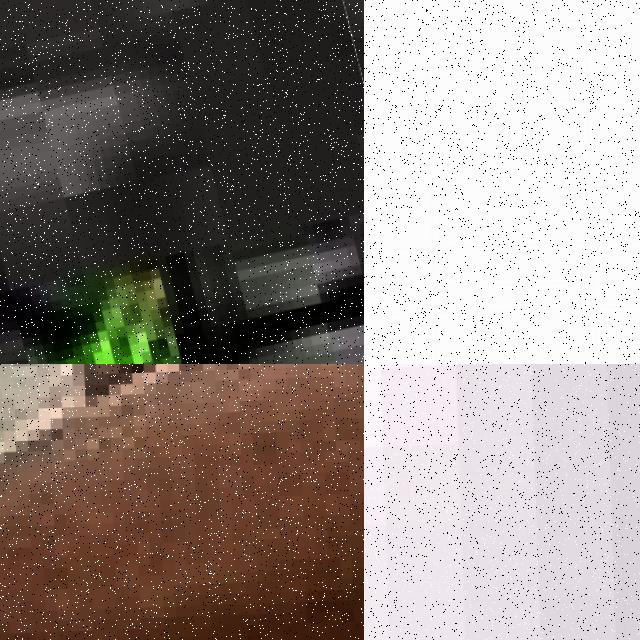drone: (0, 0, 364, 364)
